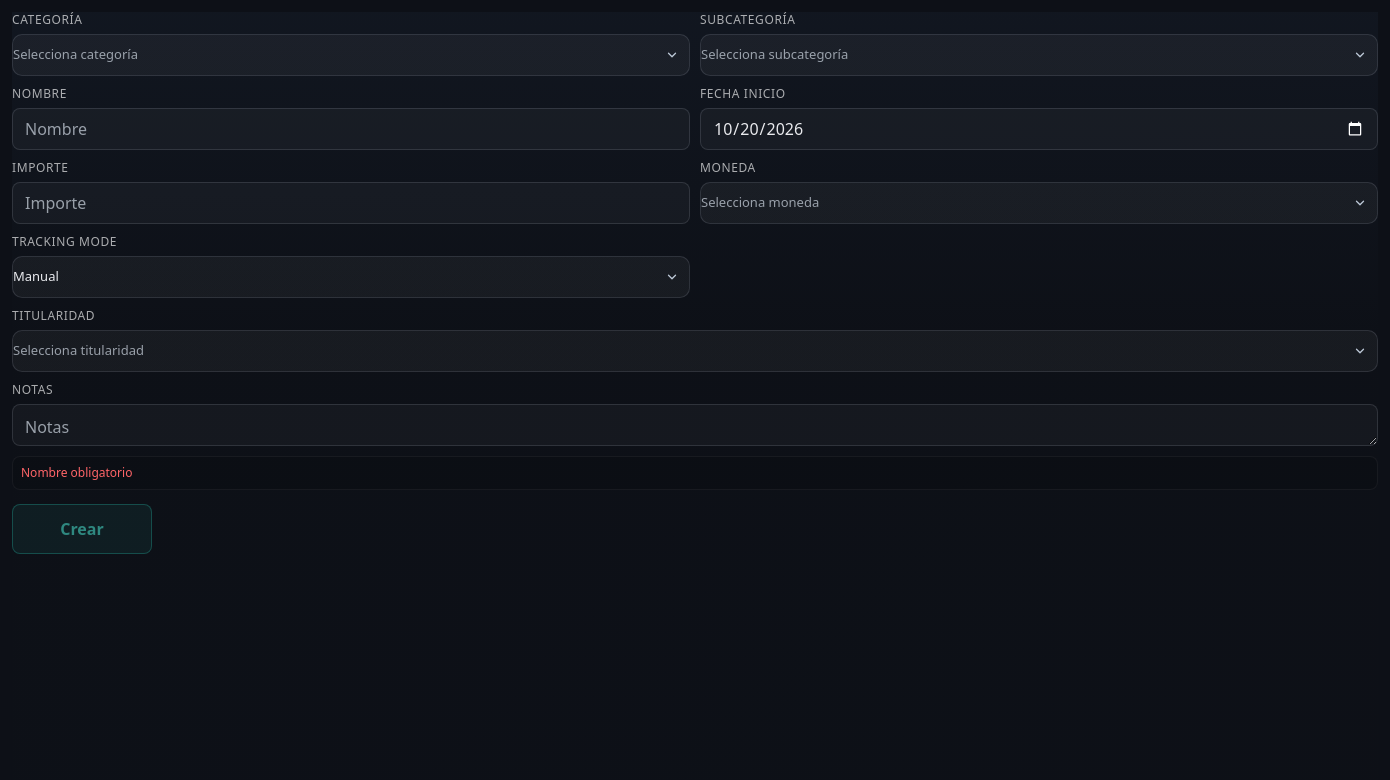
Scenario: ItemForm (core) › forces non-amortized method for jewelry furnishings
This screenshot has width=1390, height=780.
Type "Anillo" into the field with placeholder "Nombre" at [351, 129], box top-left (12, 108), bottom-right (690, 150)
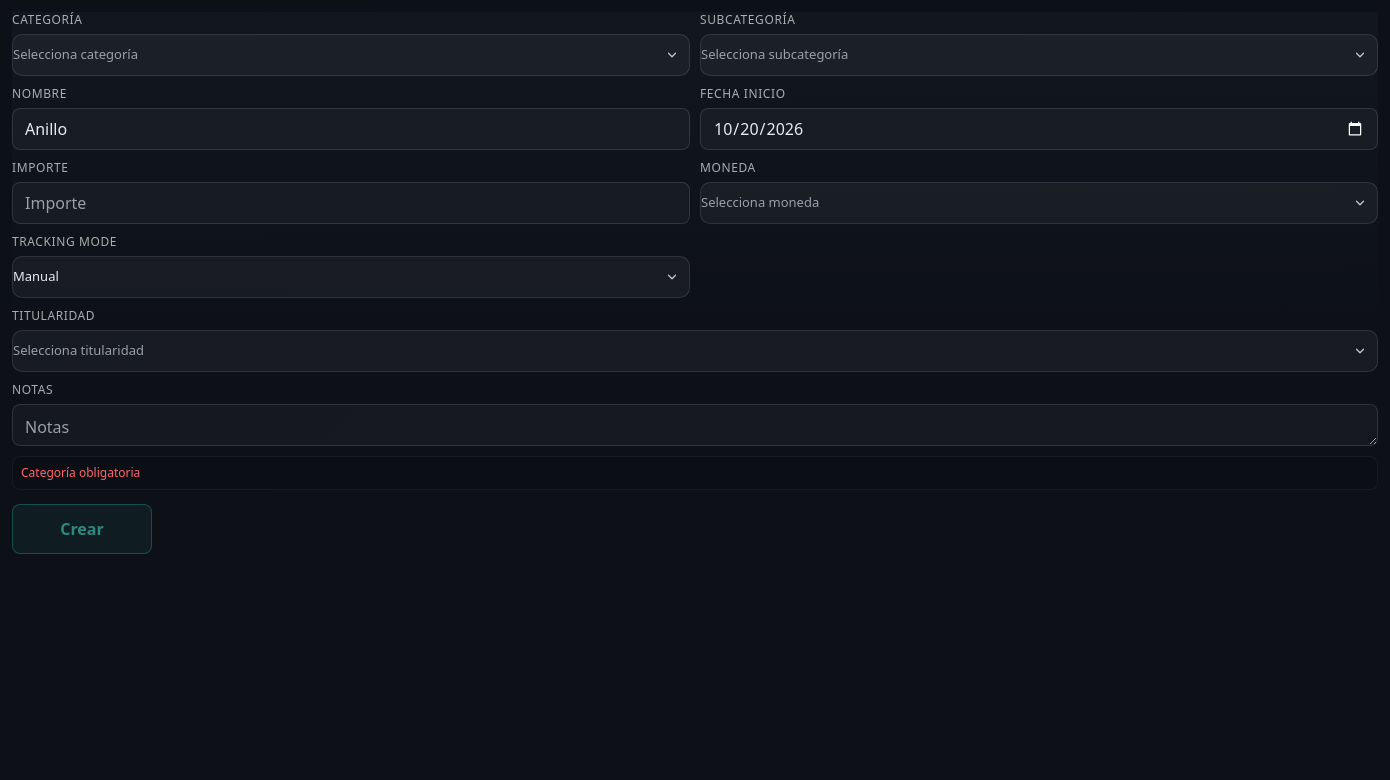
Select "Mobiliario" in the dropdown labelled "Categoría" at [351, 55], box top-left (12, 34), bottom-right (690, 76)
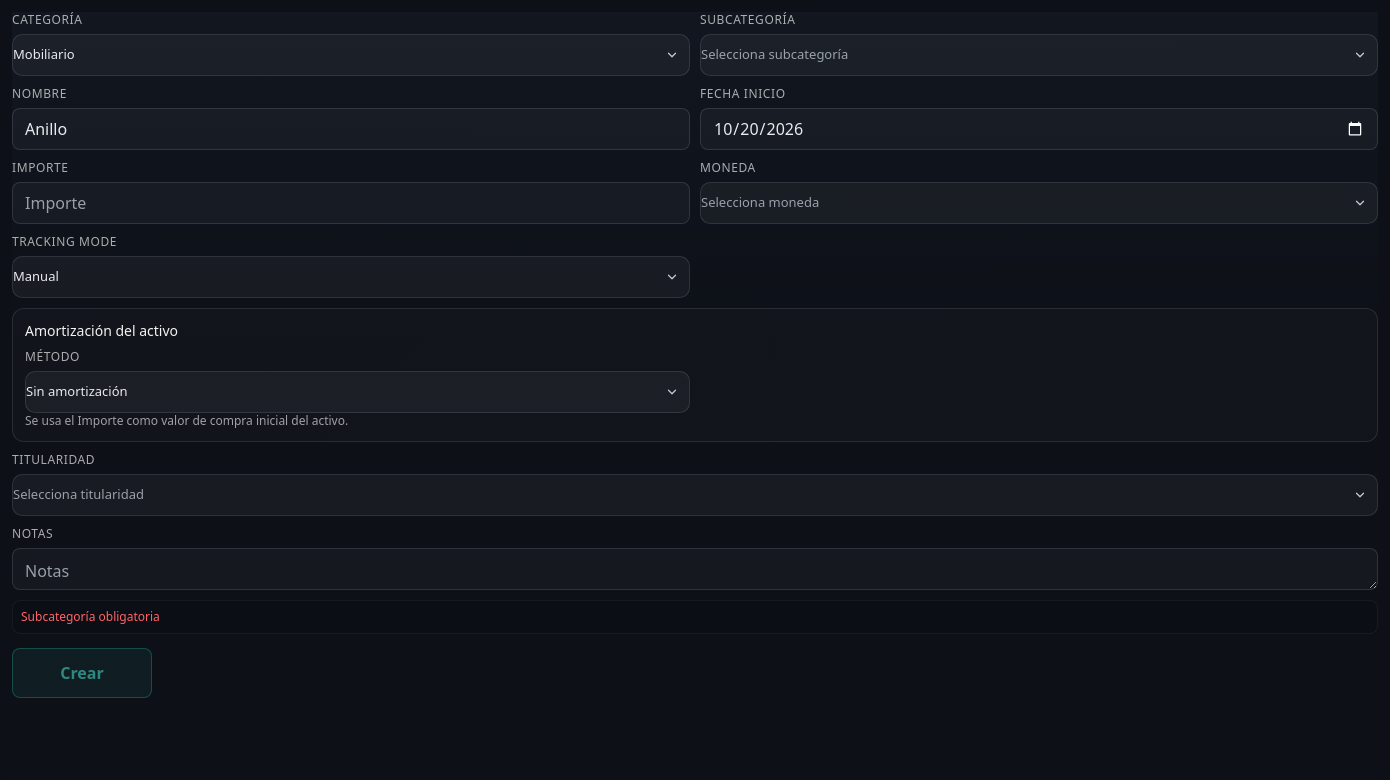
Select "Joyeria" in the dropdown labelled "Subcategoría" at [1039, 55], box top-left (700, 34), bottom-right (1378, 76)
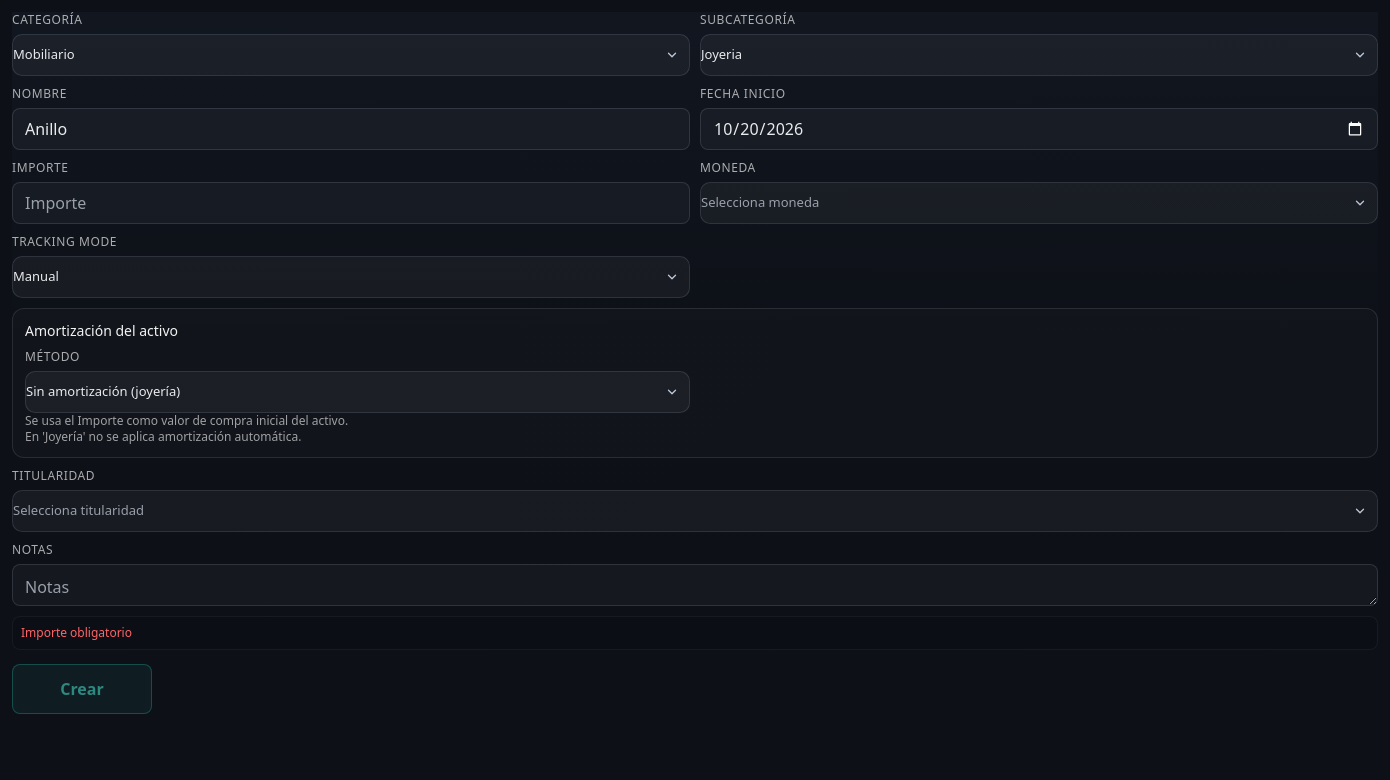
Expected: the dropdown does not show "Manual"
Expected: the text "En 'Joyería' no se aplica amortización automática." is shown, top-left (25, 428), bottom-right (301, 445)
